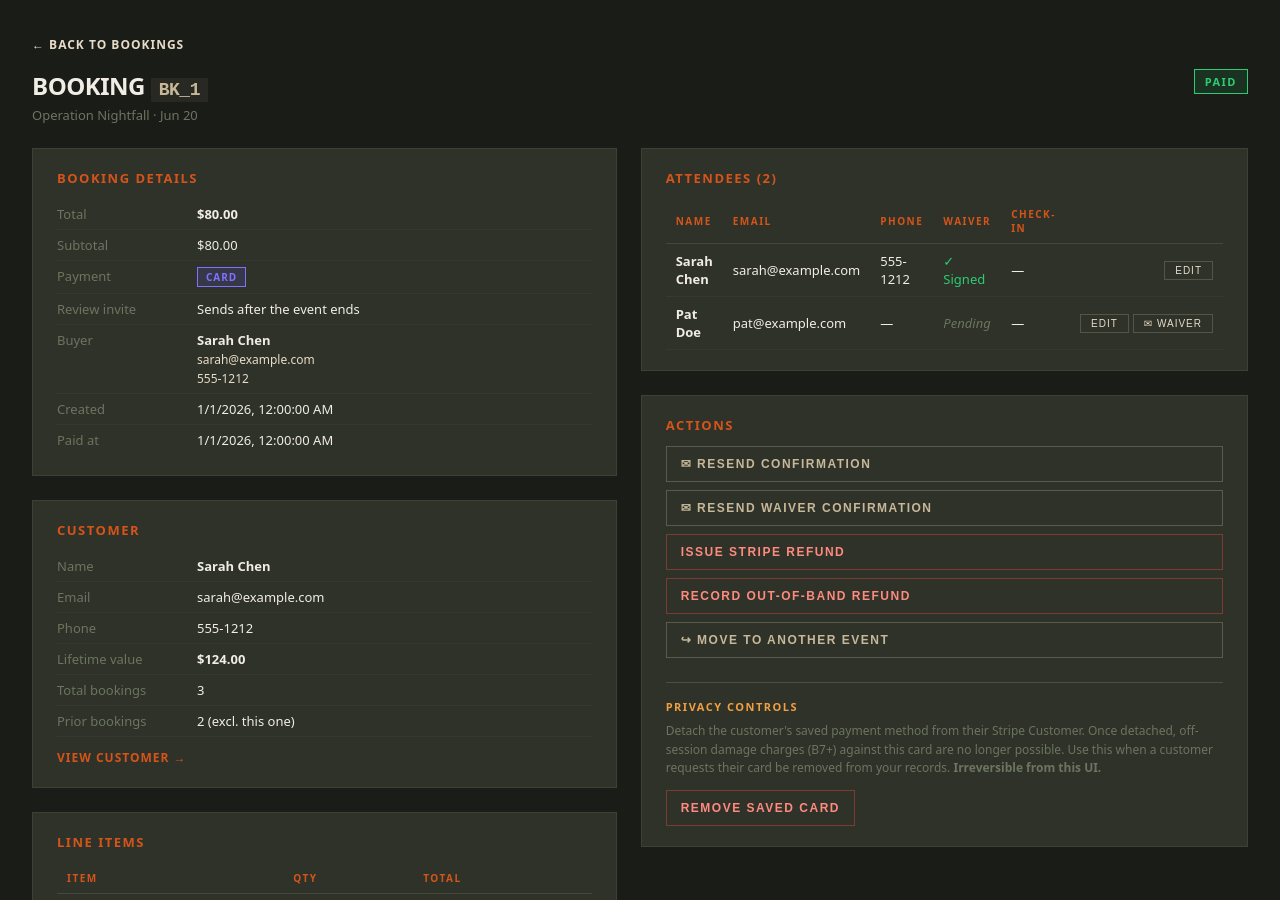
AdminBookingsDetail › posts a resend-confirmation and flashes the result
Click the button "✉ Resend confirmation" at [776, 464], box [666,446,1223,482]
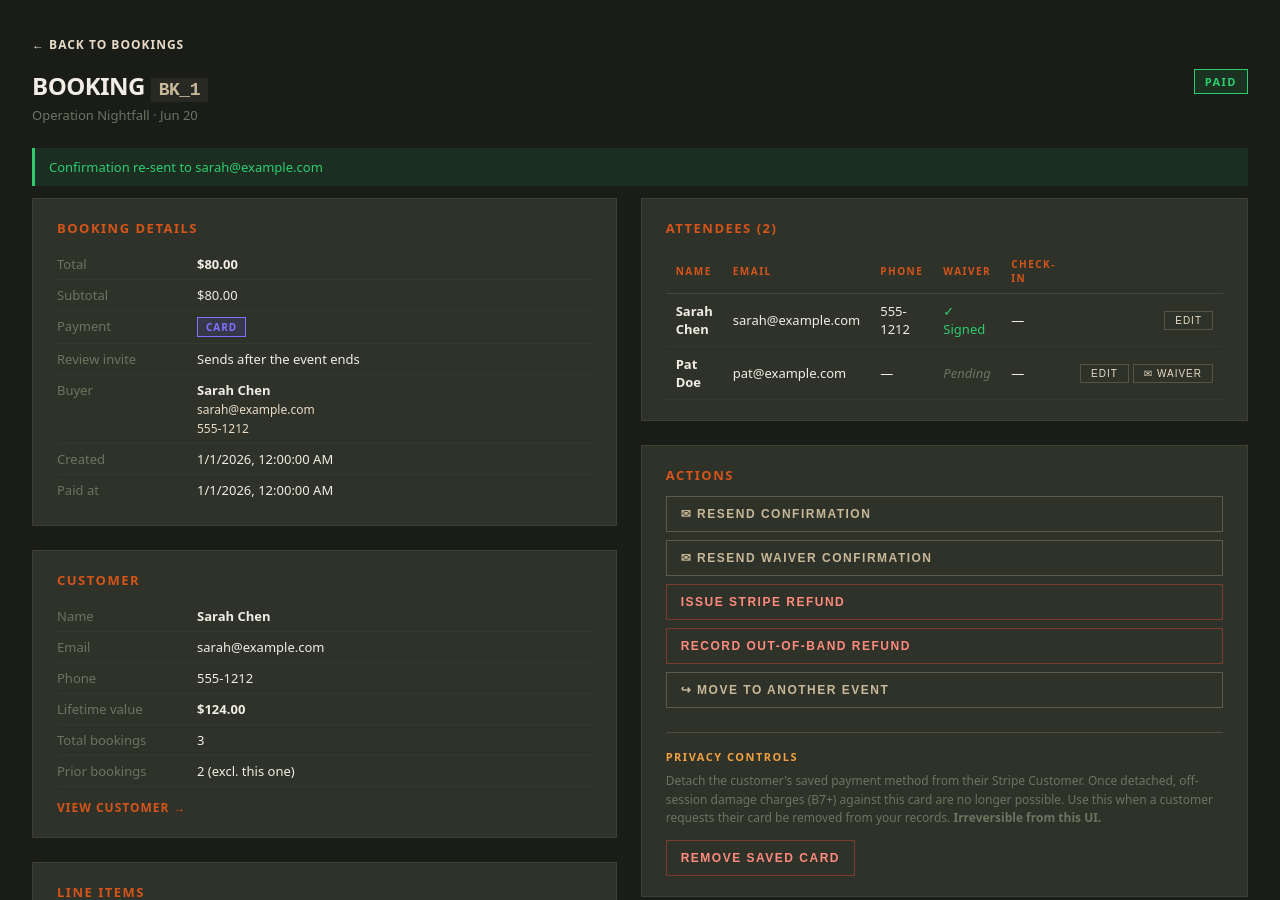
Result: the text "Confirmation re-sent to sarah@example.com" is shown at [32,148,1248,186]
